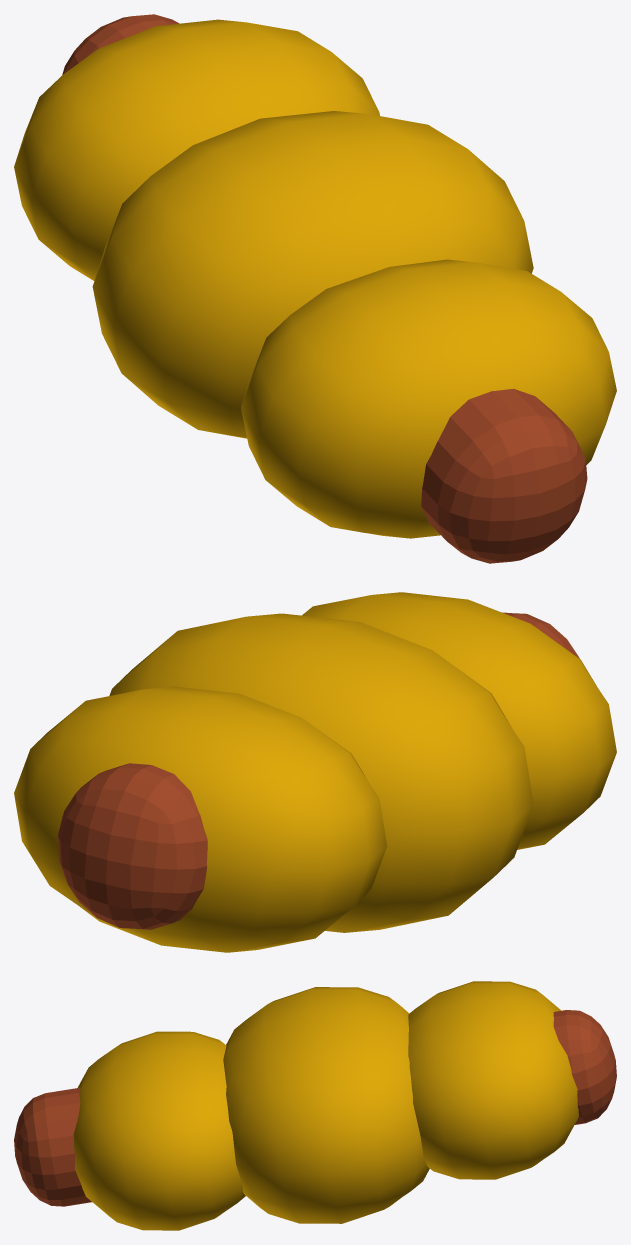
The model's file is Bread07.fbx.
The picture shows the model from 3 angles, top to bottom: view 1: azimuth 30°, elevation 25°; view 2: azimuth 150°, elevation 25°; view 3: azimuth 270°, elevation 25°; orthographic projection. The views are drawn at different scales.
Parts seen in each view (by area): view 1: Sausage.001; view 2: Sausage.001; view 3: Sausage.001.
Boxes of the visible parts, <box> form: Sausage.001: <box>14,14,616,563</box>; Sausage.001: <box>14,592,616,952</box>; Sausage.001: <box>14,981,616,1230</box>.
Size of the model in its own units: 8.99 by 6.54 by 16.93.
